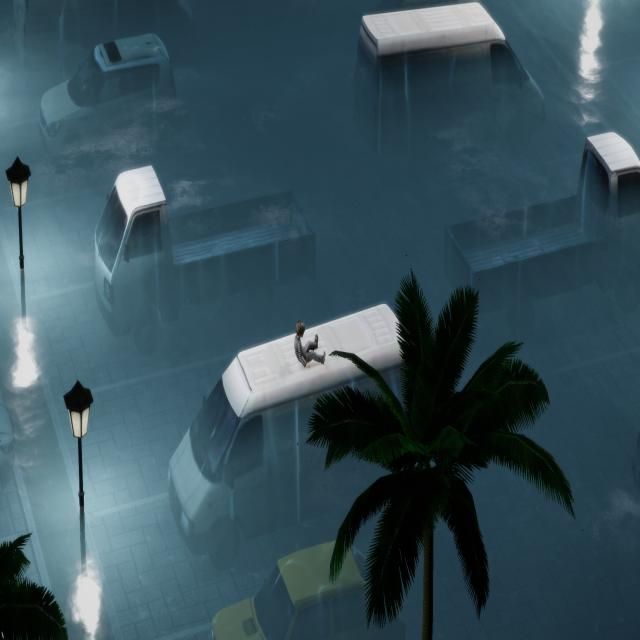Human: (288, 319, 329, 376)
